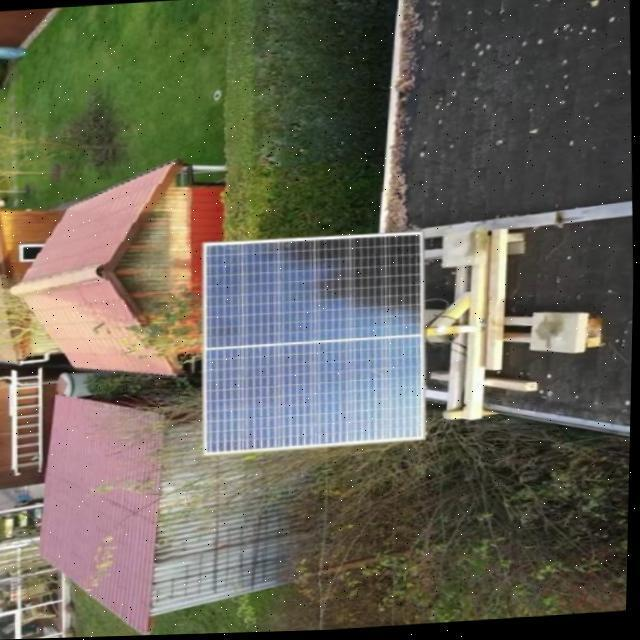Normal Solar Panel: (199, 232, 429, 455)
